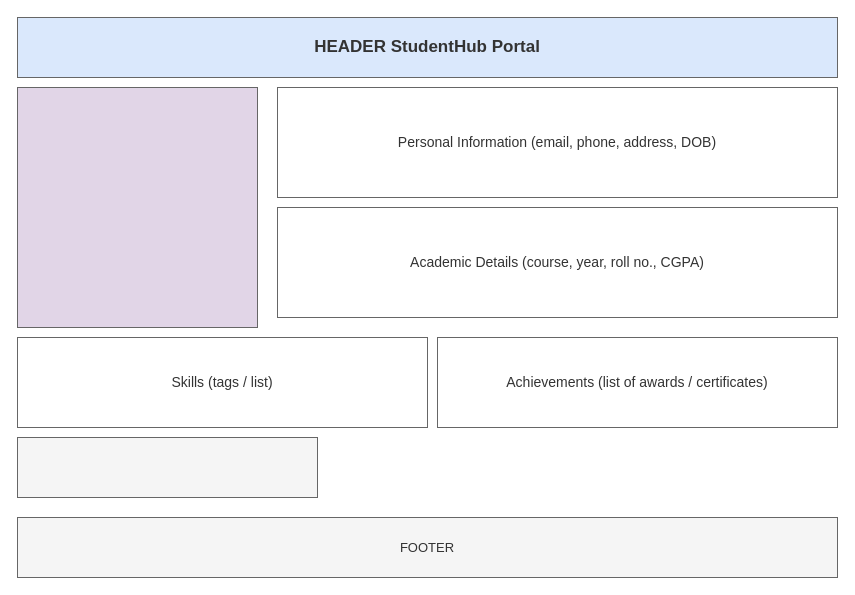
The diagram is 855 pixels wide and 595 high, and some of its shapes have lost their labels. The shapes that lost their labels are listed below. From the top down, each one's box as (x1, y1, x2, y2) in pixels, then its label:
(16, 86, 258, 328): Profile Photo Krish Varsani (student name)
(16, 436, 318, 498): Profile Actions: [ Edit Profile ] [ Logout ]
